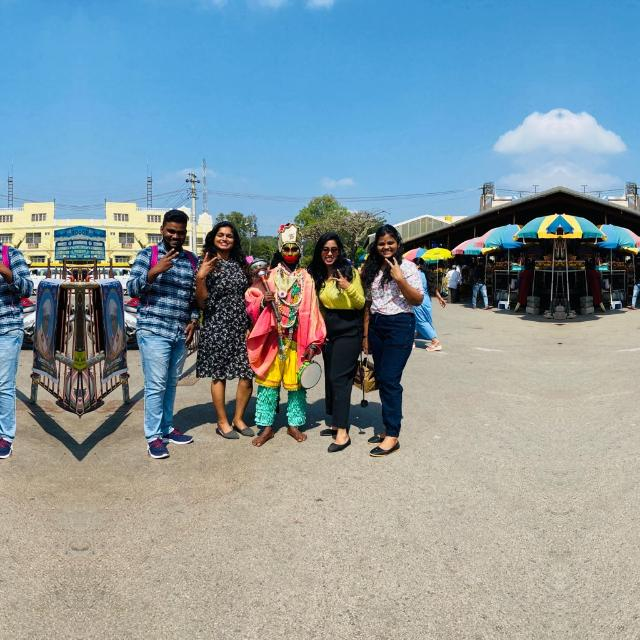person: (129, 194, 197, 453), (365, 216, 429, 474), (192, 225, 250, 449), (312, 225, 366, 429), (0, 194, 31, 453)
